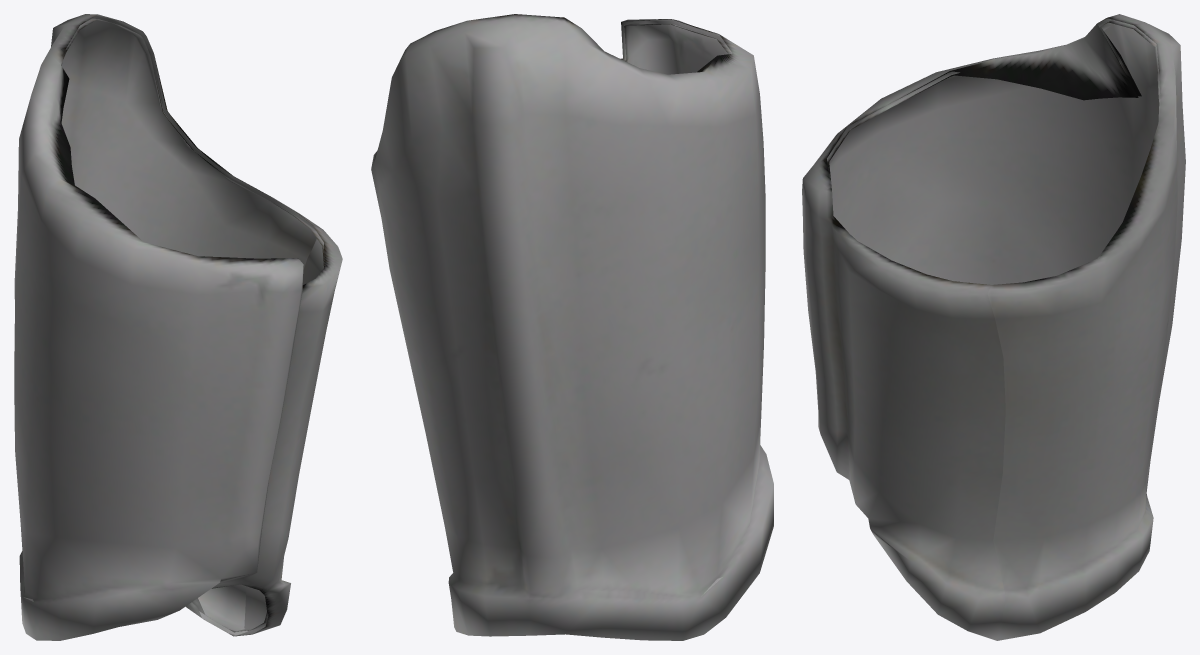
Rendered from Stormtrooper_UpperLegL.fbx.
3 views of the same model, side by side, from view 1: azimuth 30°, elevation 25°; view 2: azimuth 150°, elevation 25°; view 3: azimuth 270°, elevation 25° (orthographic). The views are drawn at different scales.
Visible parts, largest first — view 1: UpperLegL; view 2: UpperLegL; view 3: UpperLegL.
Boxes of the visible parts, x1=… form: UpperLegL: x1=14, y1=14, x2=342, y2=640; UpperLegL: x1=371, y1=14, x2=773, y2=640; UpperLegL: x1=802, y1=14, x2=1185, y2=640.
Bounding box in the file's own units: 0.2447 × 0.4758 × 0.2911.
